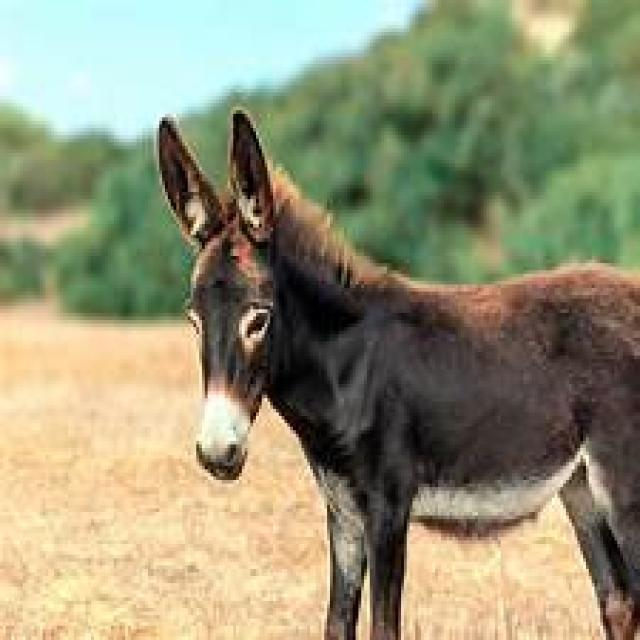Donkey: (148, 79, 638, 640)
